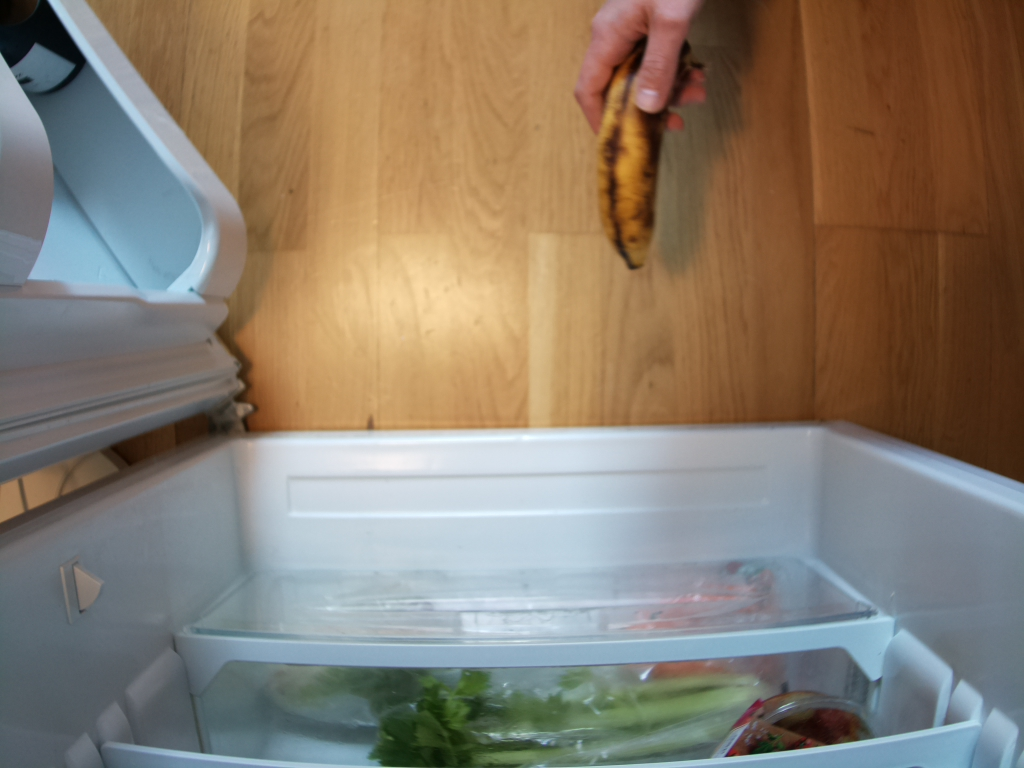banana-overripe: (596, 35, 694, 270)
